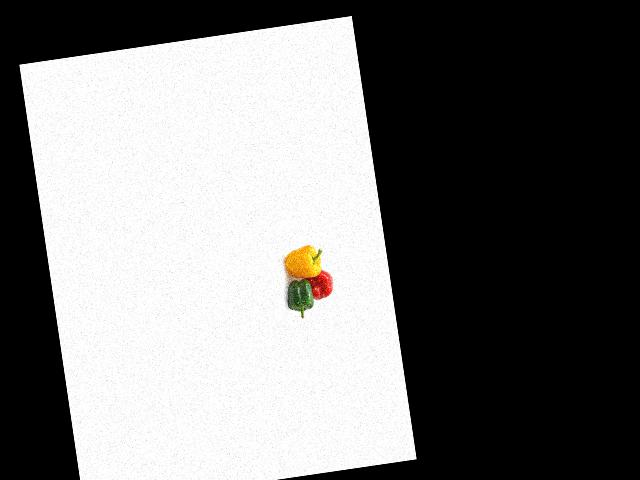bell_pepper: (283, 270, 319, 317)
